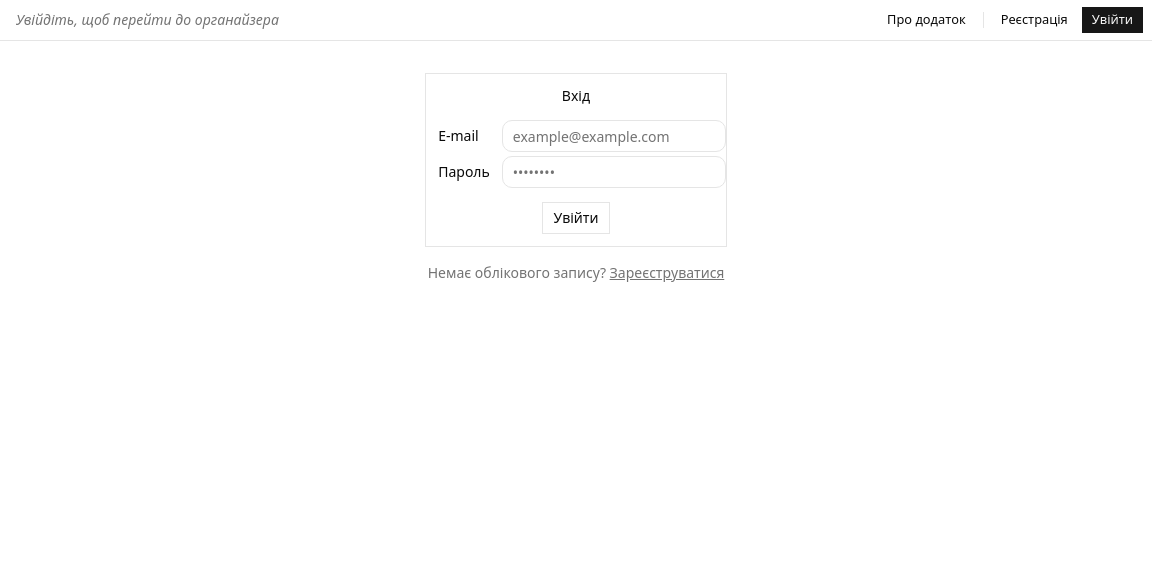
Scenario: Engineering Objects › edits an object
Type "demo@example.com" into the field with id "login-email". click: {"x": 614, "y": 136}
box: [502,120,726,152]
Type "demo" into the password field with id "login-password". click: {"x": 614, "y": 172}
box: [502,156,726,188]
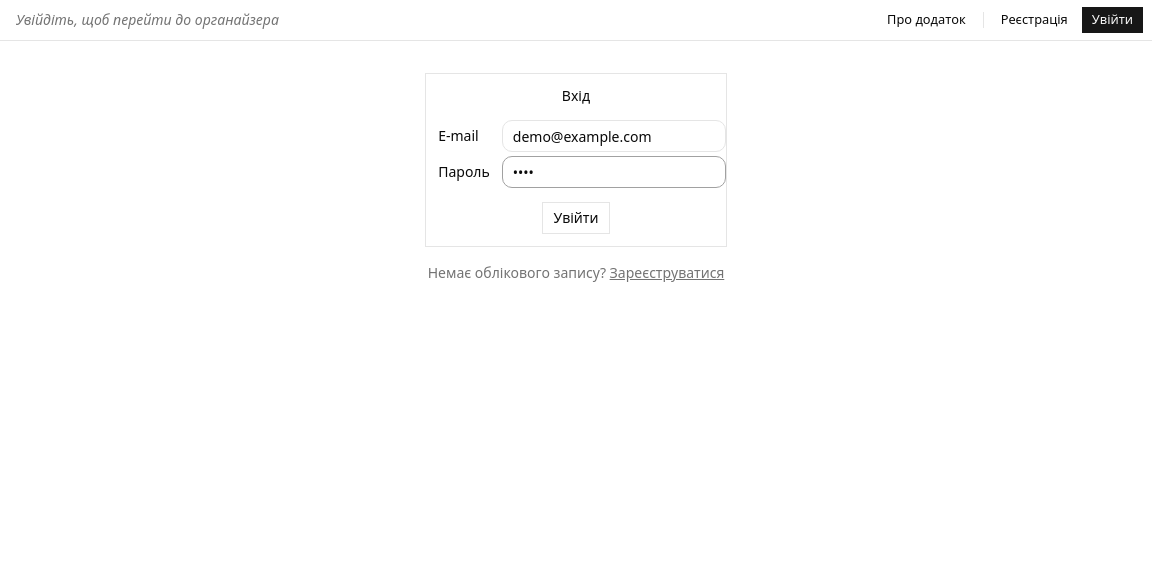
Click the button "Увійти" below "Пароль". click: {"x": 576, "y": 218}
box: [542,202,609,234]
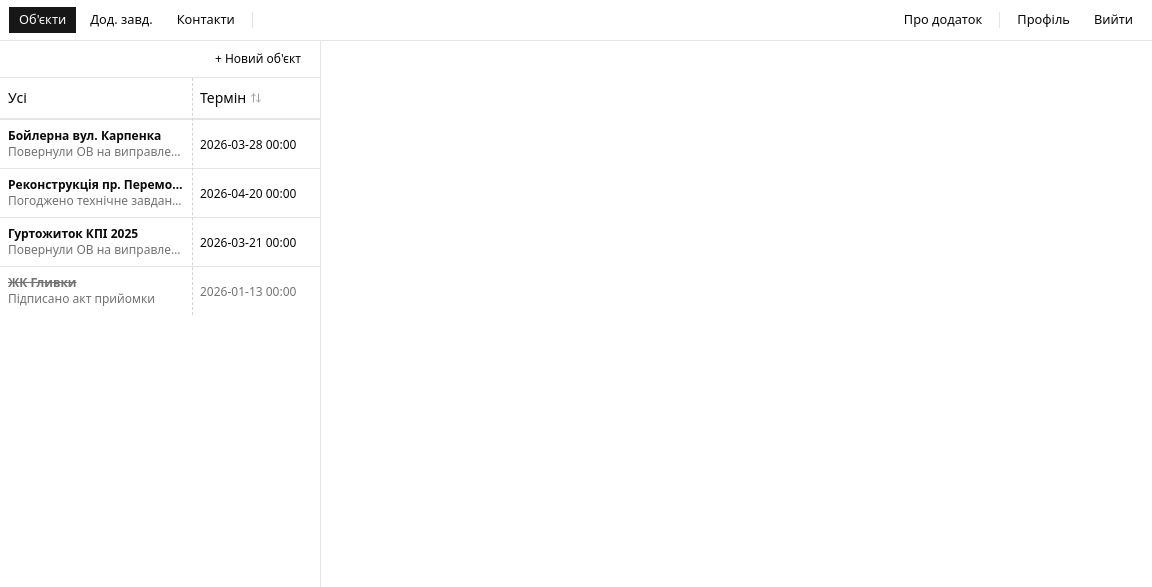
Click the text "Бойлерна вул. Карпенка". click: {"x": 96, "y": 136}
box: [8,128,184,144]
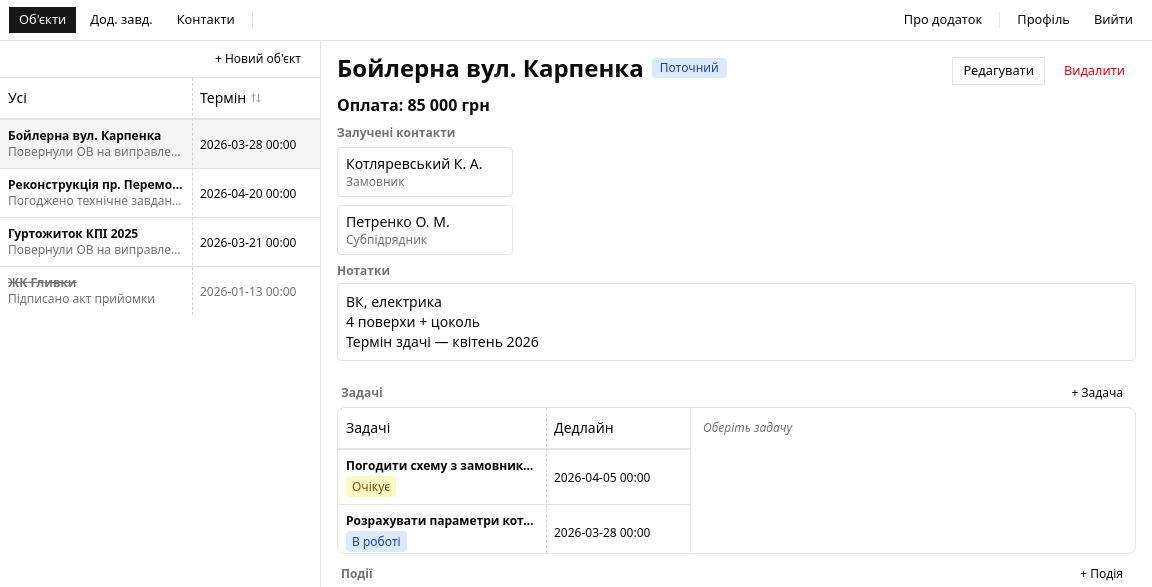
Click the button "Редагувати". click: {"x": 999, "y": 71}
box: [952,57,1045,85]
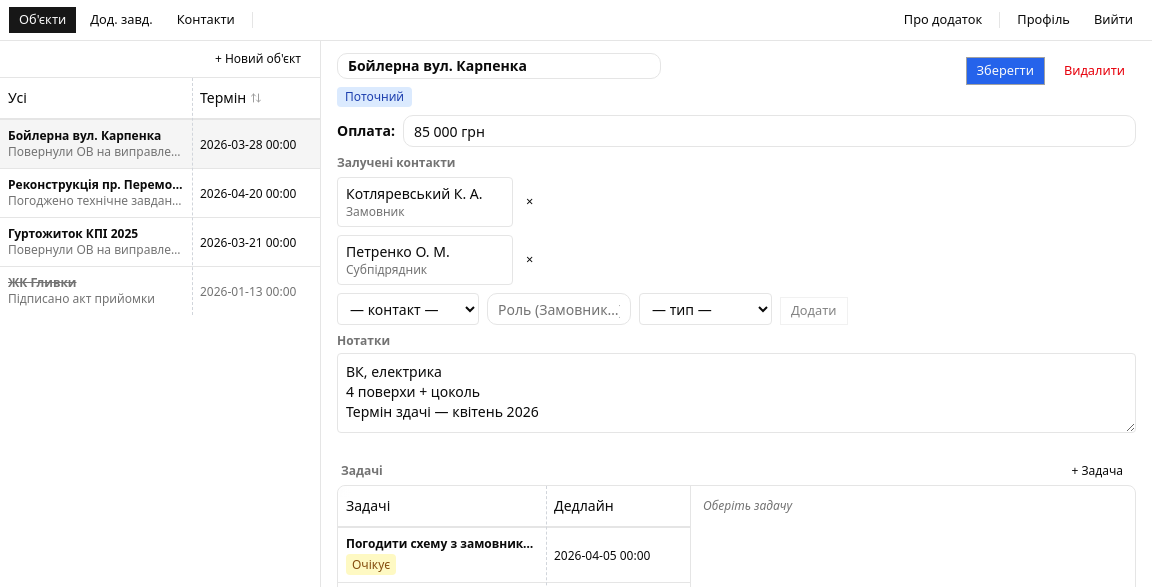
Replace the text in the 1st field with "Бойлерна Оновлена". click: {"x": 499, "y": 66}
box: [337,53,661,79]
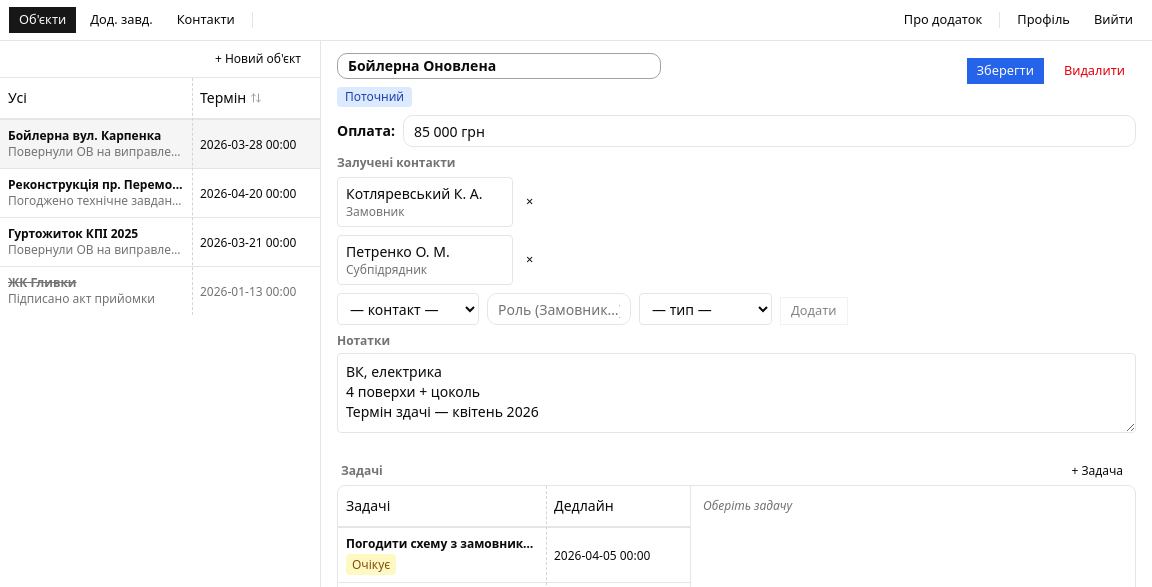
Click the button "Зберегти". click: {"x": 1006, "y": 71}
box: [966,57,1045,85]
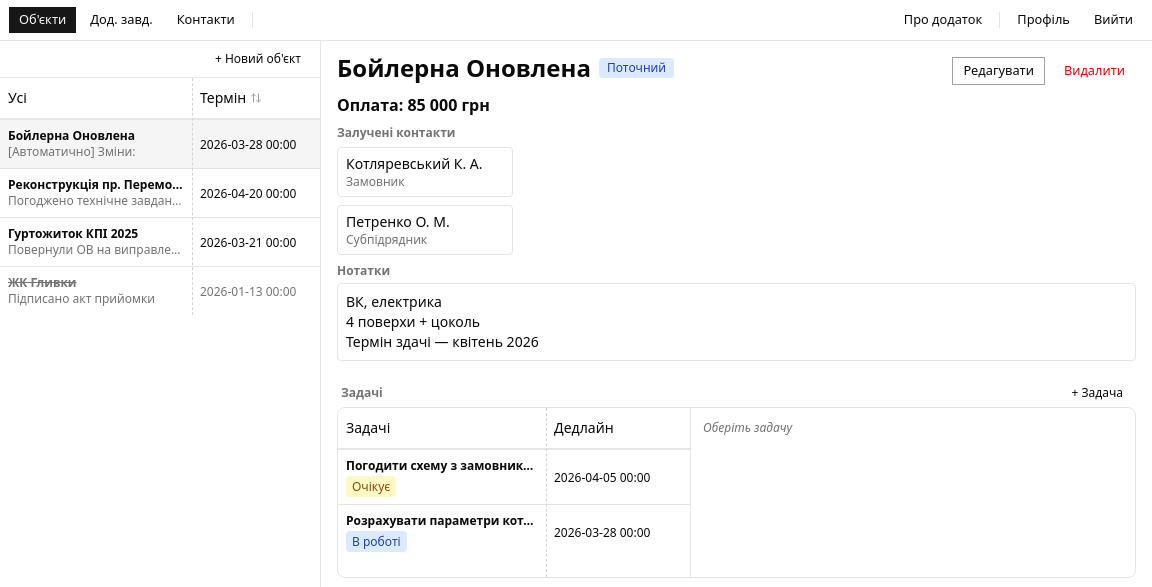
Expected: the heading "Бойлерна Оновлена" is shown, [337,53,591,83]
